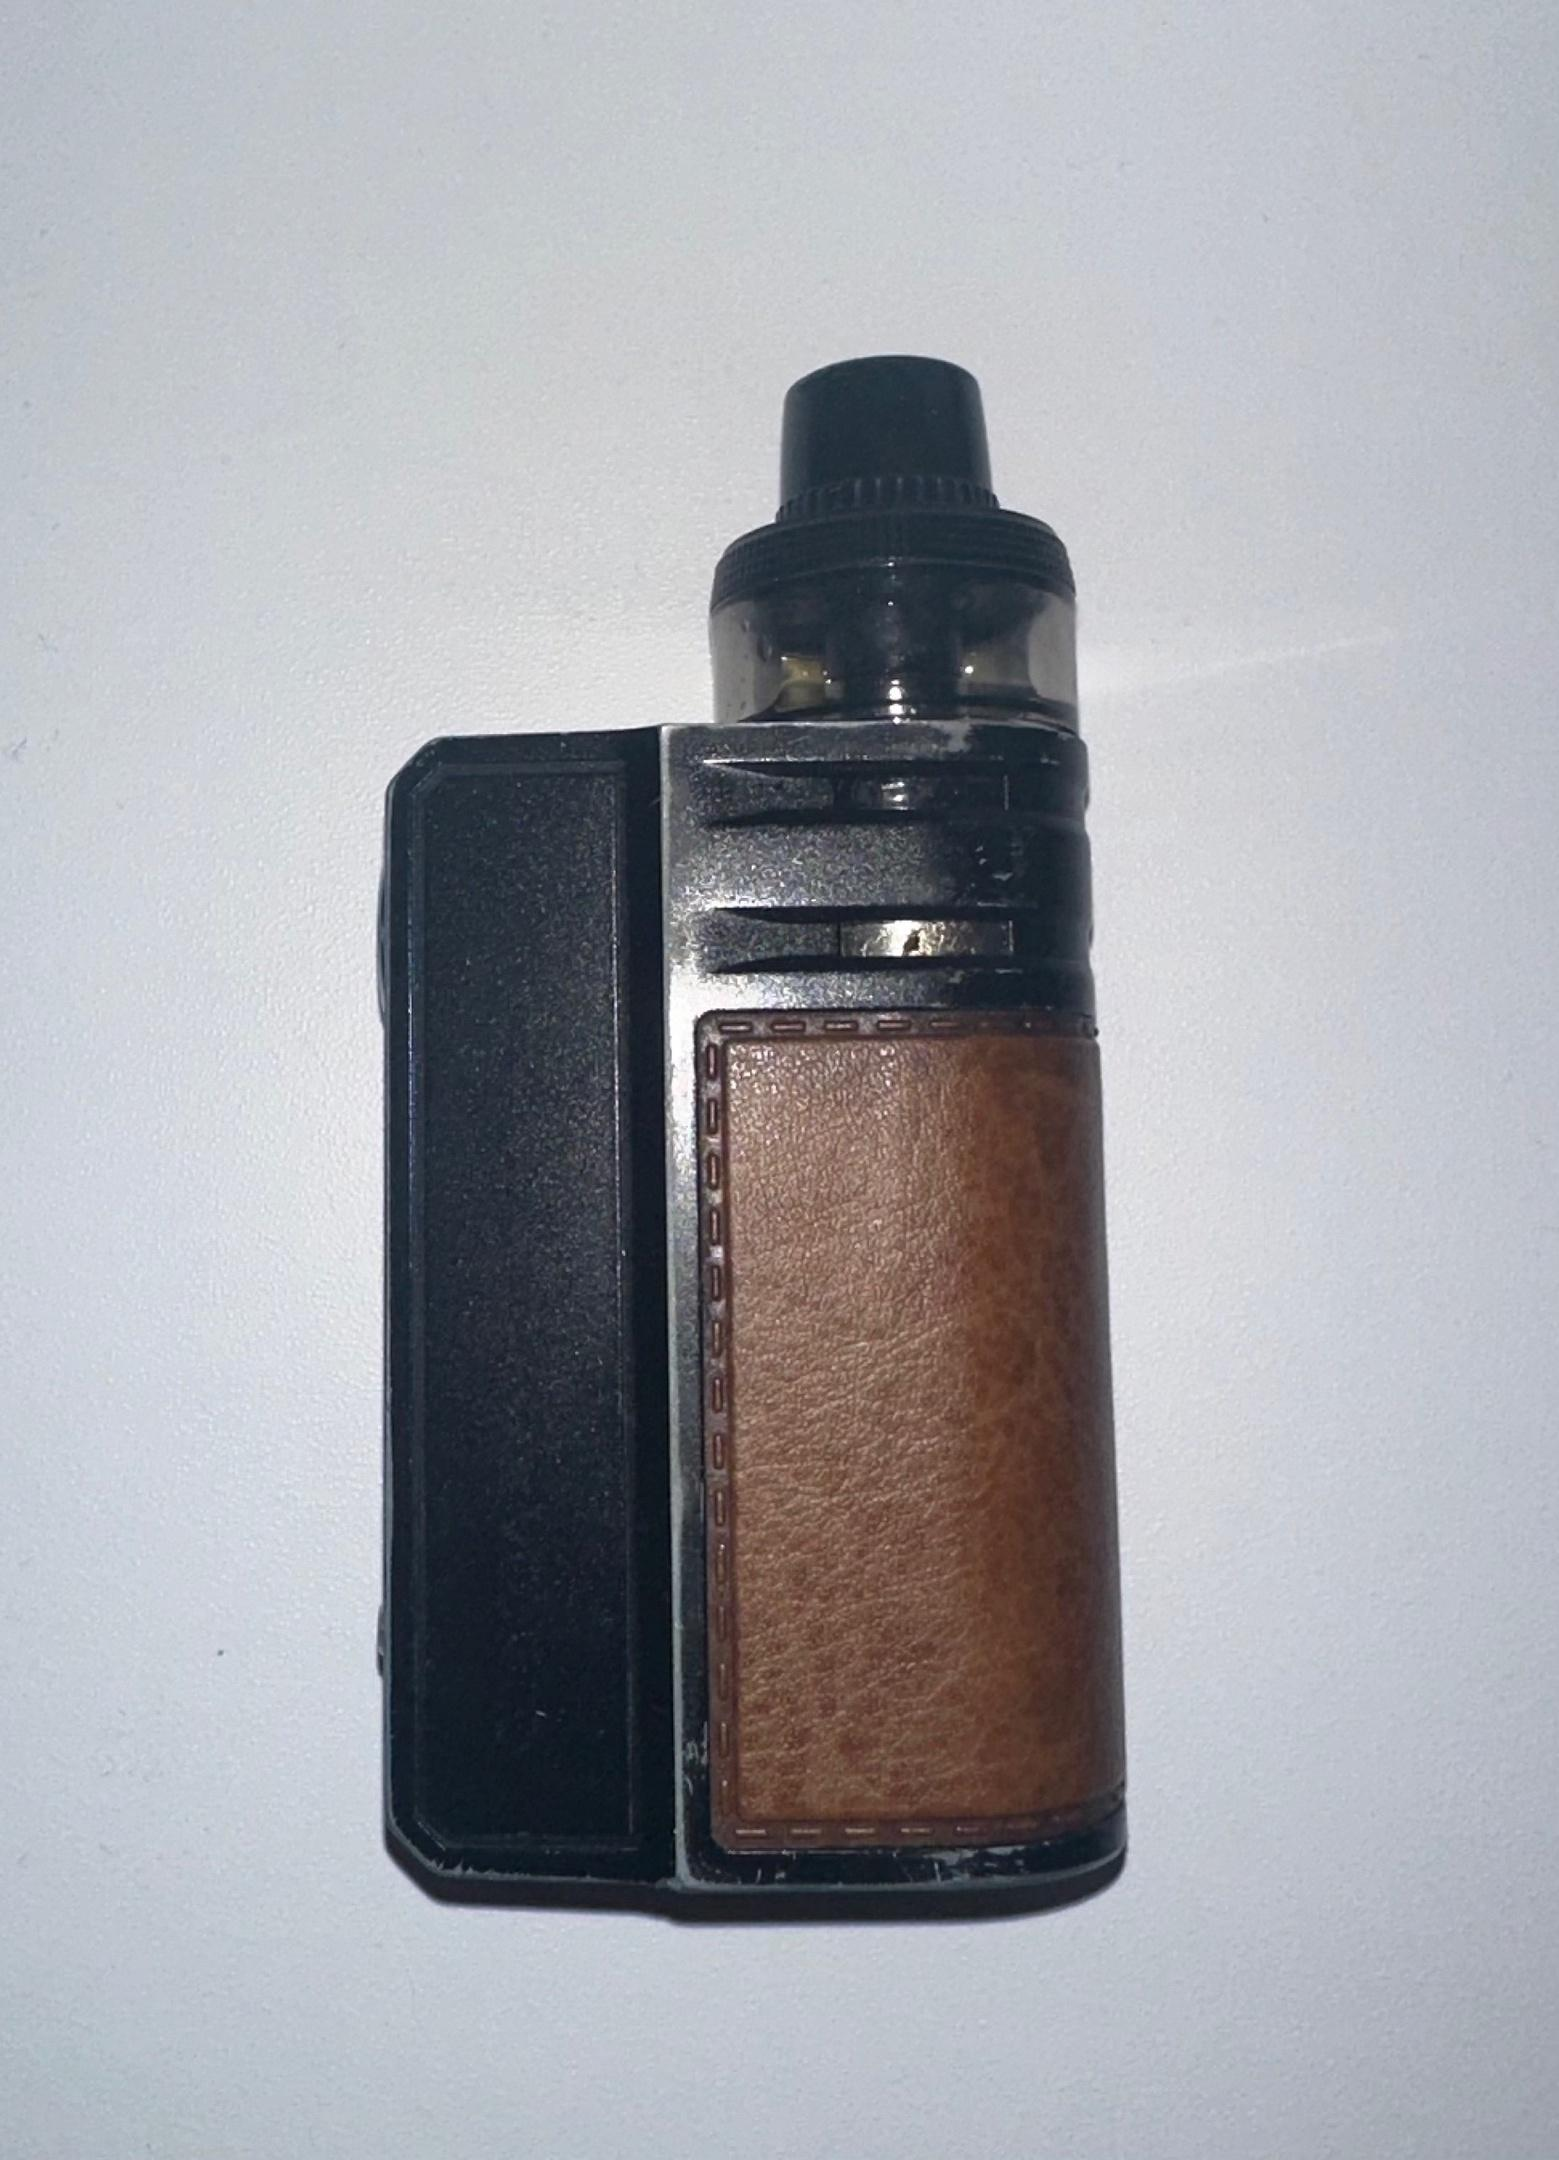Vape: (377, 357, 1125, 1924)
